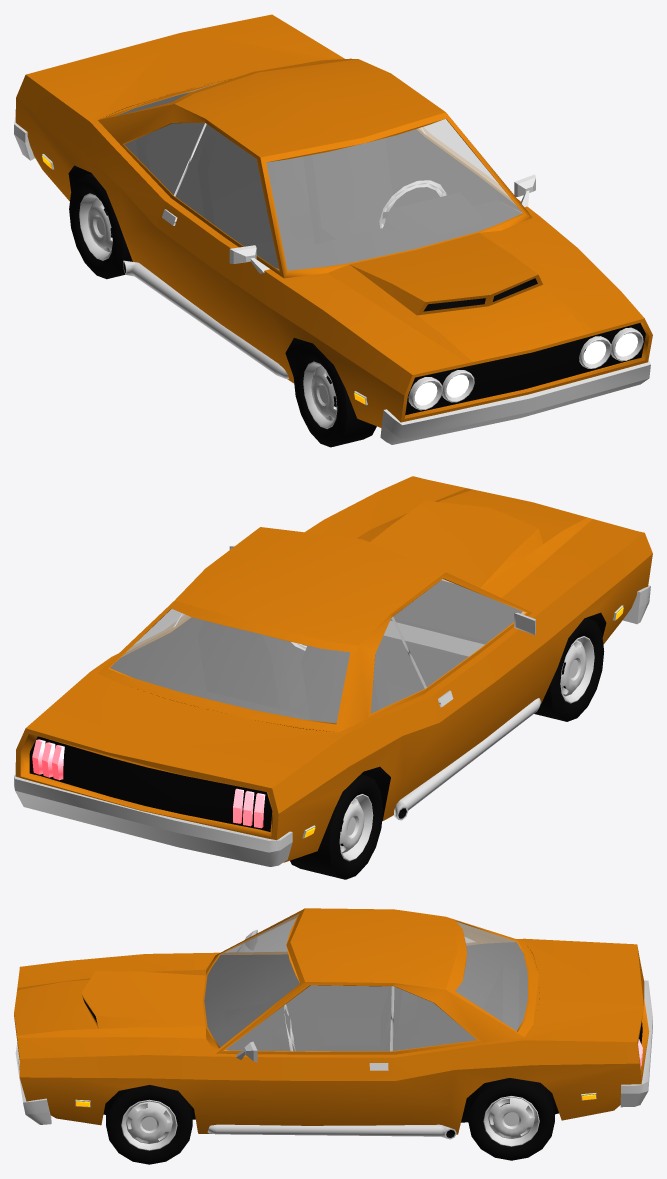
The model's file is car_muscle_lo.glb.
3 renders of one model, top to bottom at view 1: azimuth 30°, elevation 25°; view 2: azimuth 150°, elevation 25°; view 3: azimuth 270°, elevation 25°, orthographic. The views are drawn at different scales.
Visible parts, largest first — view 1: Cube_0, Cube.001_3, Cube.005_6; view 2: Cube_0, Cube.005_6, Cube.001_3; view 3: Cube_0, Cube.002_4, Cube.004_5.
Boxes of the visible parts, bbox=[...] form: Cube_0: bbox=[14, 14, 652, 444]; Cube.001_3: bbox=[293, 343, 376, 447]; Cube.005_6: bbox=[69, 173, 132, 279]; Cube_0: bbox=[14, 476, 652, 866]; Cube.005_6: bbox=[290, 774, 383, 879]; Cube.001_3: bbox=[534, 617, 604, 721]; Cube_0: bbox=[14, 908, 652, 1139]; Cube.002_4: bbox=[468, 1078, 554, 1160]; Cube.004_5: bbox=[106, 1085, 192, 1164].
Size of the model in its own units: 5.46 by 3.6 by 12.16.
